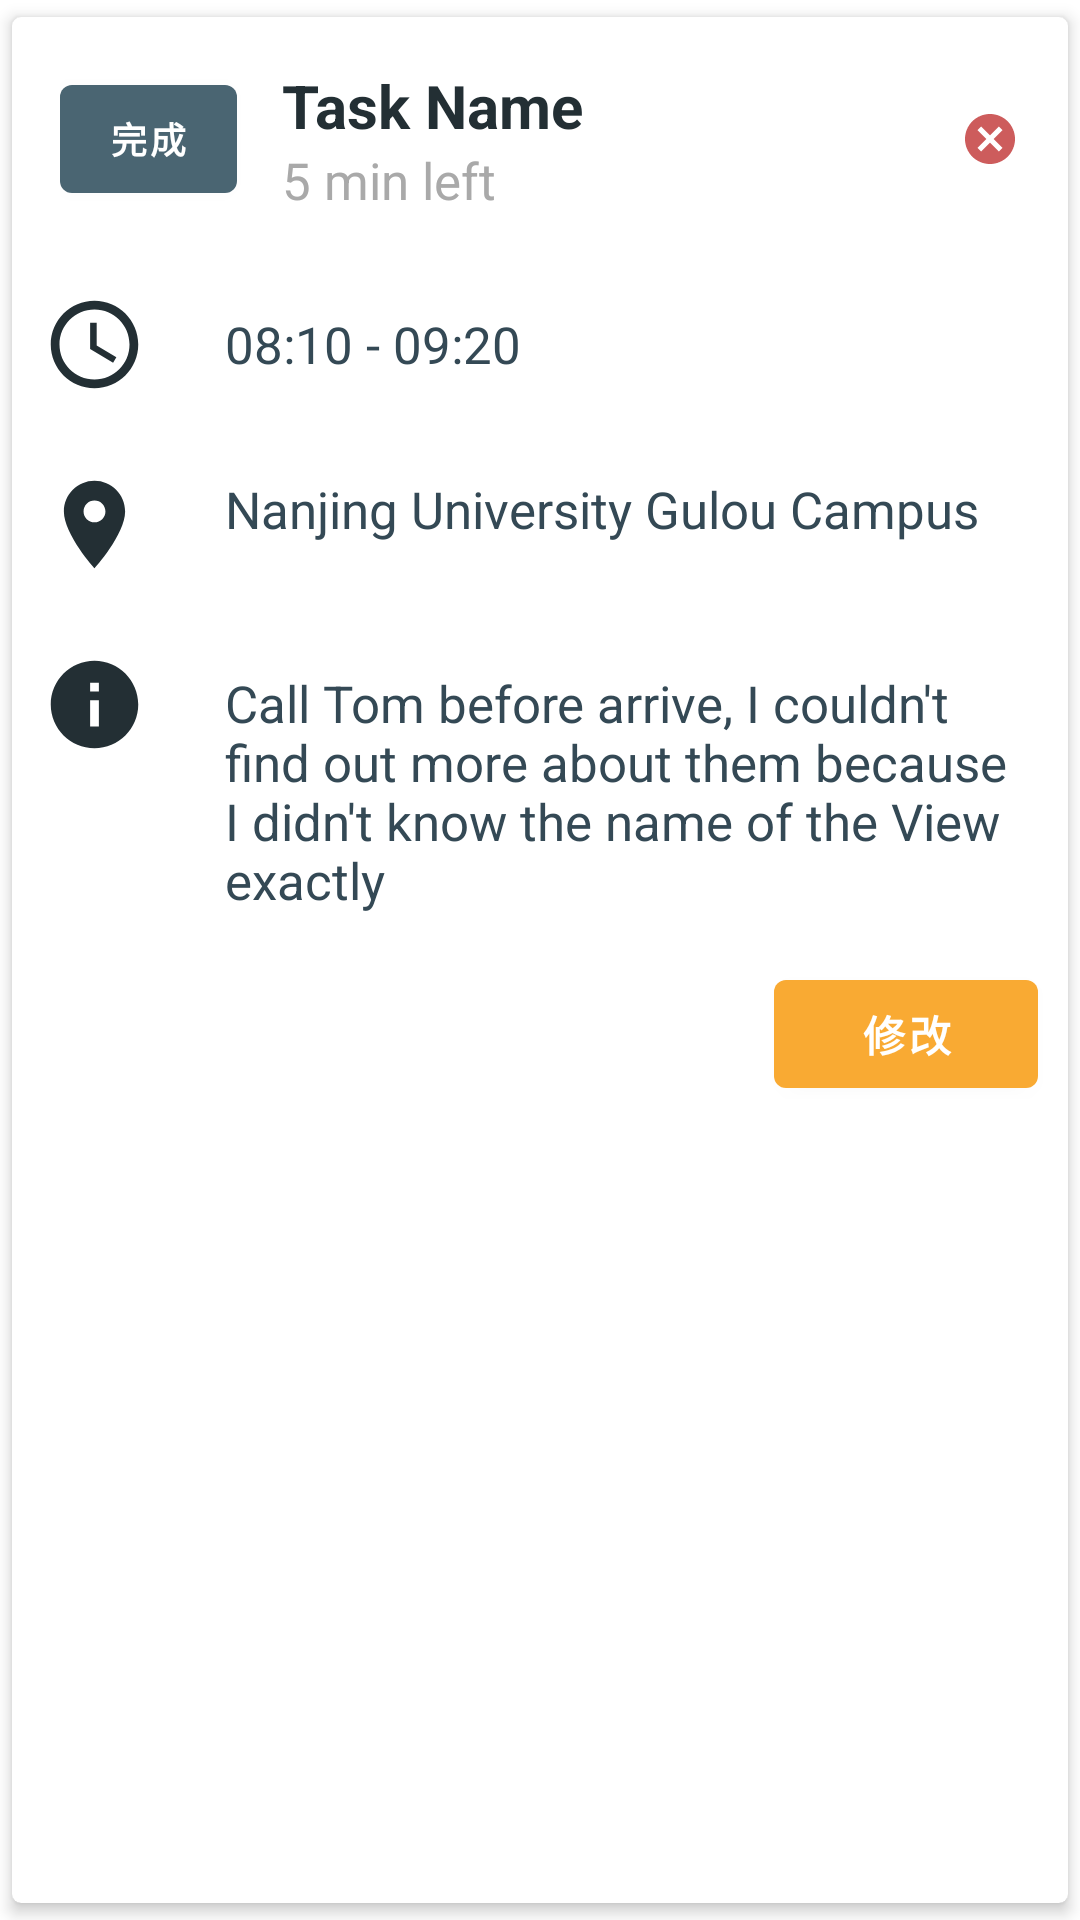

Icons on this 1080px x 1920px Android screen, each with the point to tap as [x,y]:
access time: [94,344]
cancel: [990,139]
info: [94,704]
place: [94,524]
